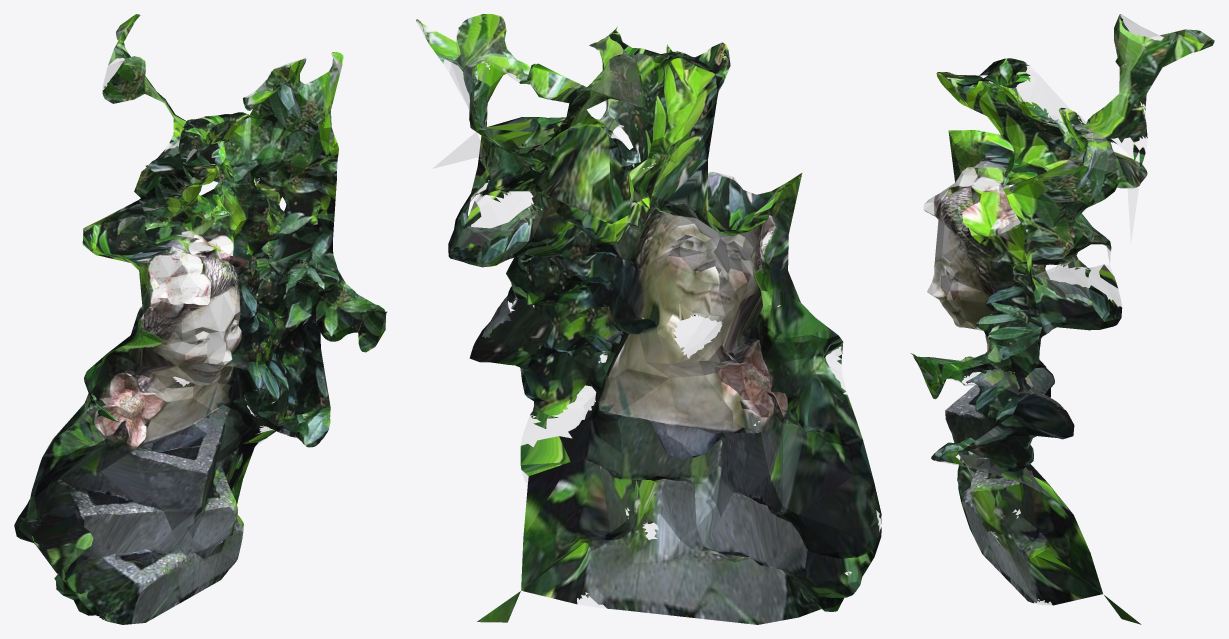
Rendered from groteKop.glb.
The picture shows the model from 3 angles, left to right: view 1: azimuth 30°, elevation 25°; view 2: azimuth 150°, elevation 25°; view 3: azimuth 270°, elevation 25°; orthographic projection. The views are drawn at different scales.
Visible parts, largest first — view 1: groteKop; view 2: groteKop; view 3: groteKop.
Part boxes in pixels (x1,y1,x2,y2): groteKop: (14, 14, 387, 624); groteKop: (416, 14, 881, 624); groteKop: (910, 14, 1214, 624).
Bounding box in the file's own units: 13.55 × 18.72 × 9.04.
2 materials, 2 textured.
